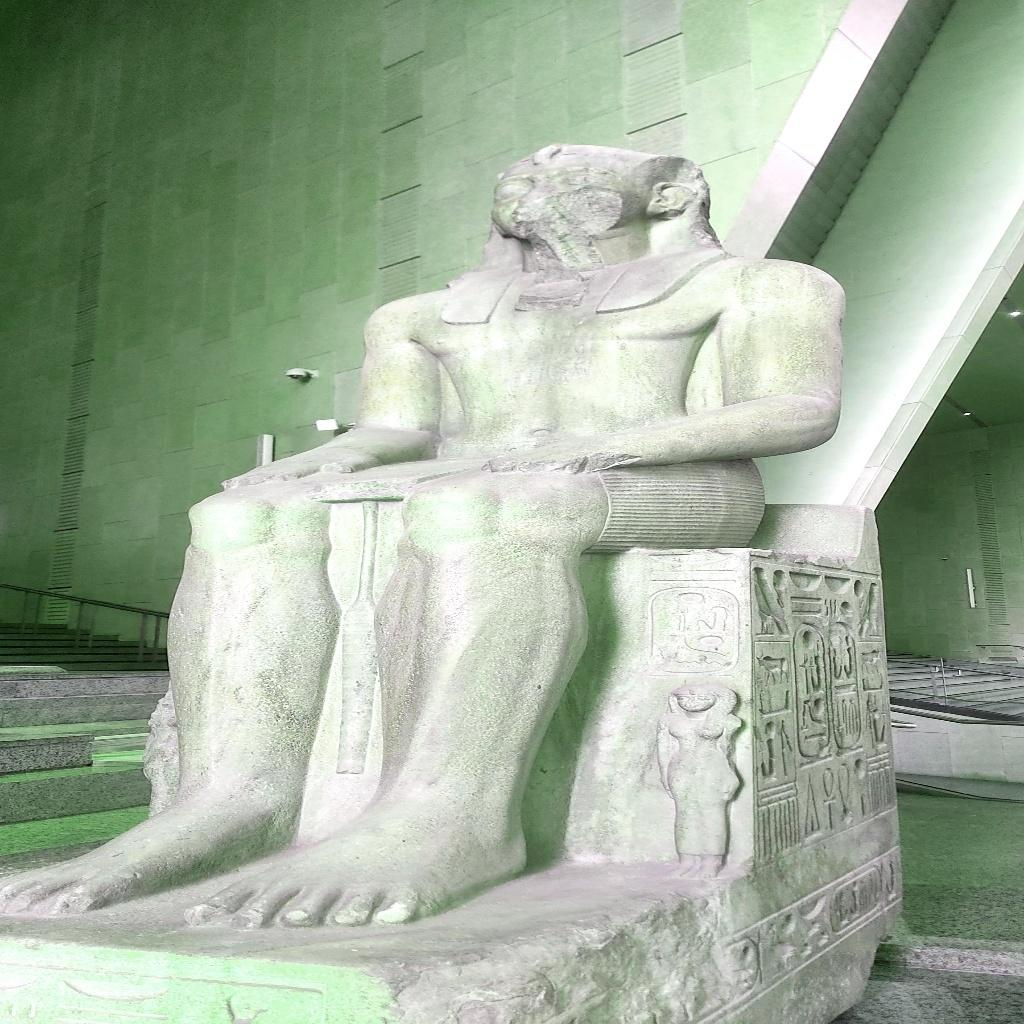Colossal Statue of Middle Kingdom King: (9, 141, 861, 934)
